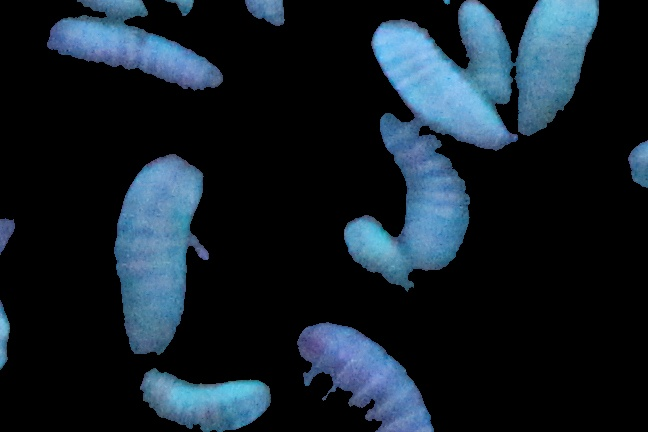larvae: (113, 147, 205, 368), (368, 20, 514, 155), (291, 321, 436, 432), (378, 112, 468, 271), (47, 20, 223, 91), (514, 1, 596, 135), (134, 369, 273, 431), (452, 1, 521, 106)
